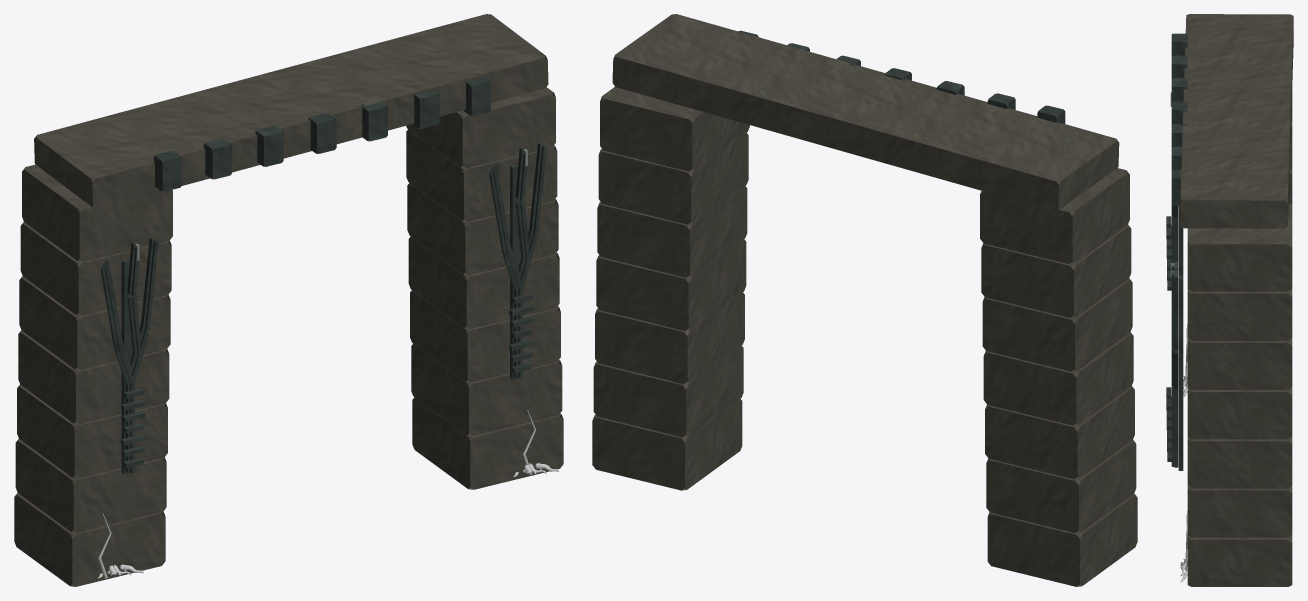
File: cataclysm_forge_threshold-lod0.gltf
3 views of the same model, side by side, from view 1: azimuth 30°, elevation 25°; view 2: azimuth 150°, elevation 25°; view 3: azimuth 270°, elevation 25° (orthographic). The views are drawn at different scales.
Parts seen in each view (by area): view 1: cataclysm_forge_threshold LOD0 cataclysm_forge_threshold; view 2: cataclysm_forge_threshold LOD0 cataclysm_forge_threshold; view 3: cataclysm_forge_threshold LOD0 cataclysm_forge_threshold, cataclysm_forge_threshold LOD0 cataclysm_forge_threshold roo.
Boxes of the visible parts, x1,y1,x2,y2 form: cataclysm_forge_threshold LOD0 cataclysm_forge_threshold: [14, 14, 563, 586]; cataclysm_forge_threshold LOD0 cataclysm_forge_threshold: [592, 14, 1137, 586]; cataclysm_forge_threshold LOD0 cataclysm_forge_threshold: [1166, 14, 1293, 586]; cataclysm_forge_threshold LOD0 cataclysm_forge_threshold roo: [1185, 323, 1187, 570].
Size of the model in its own units: 3.53 by 2.88 by 0.8775.
